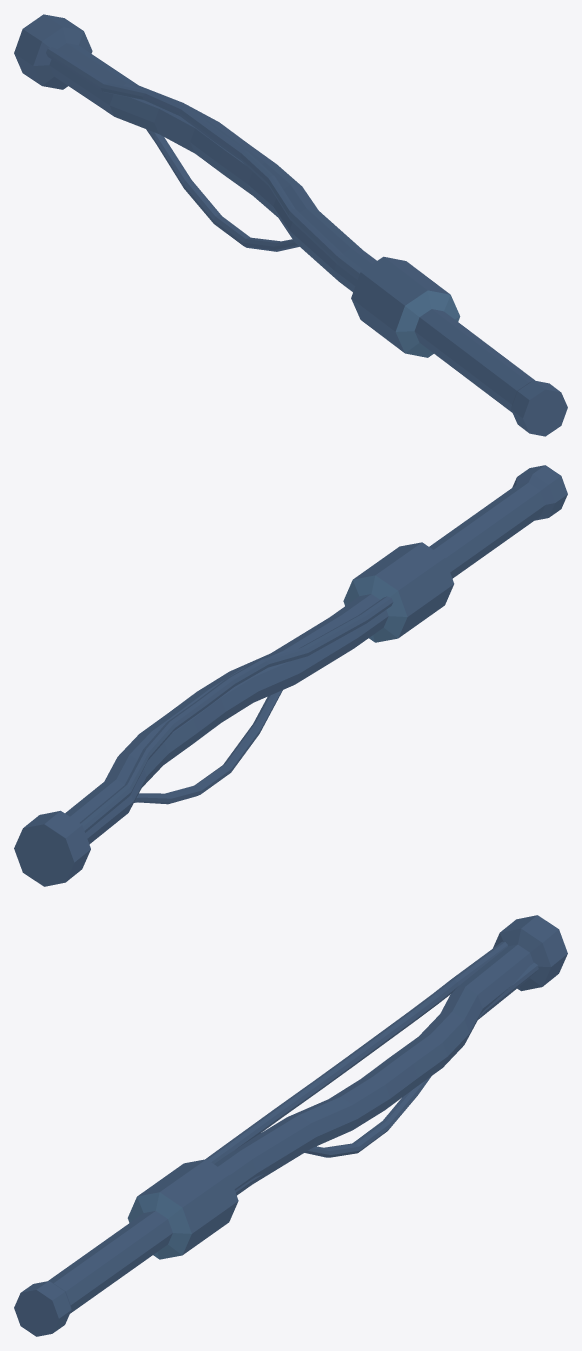
Rendered from pipeSeg-b1.glb.
3 renders of one model, top to bottom at view 1: azimuth 30°, elevation 25°; view 2: azimuth 150°, elevation 25°; view 3: azimuth 330°, elevation 25°, orthographic.
Parts seen in each view (by area): view 1: pipeBend-b; view 2: pipeBend-b; view 3: pipeBend-b.
Part boxes in pixels (<box>): pipeBend-b: <box>14,14,567,436</box>; pipeBend-b: <box>14,465,567,886</box>; pipeBend-b: <box>14,915,567,1336</box>.
Bounding box in the file's own units: 0.4336 × 0.535 × 5.
1 material, 1 textured.
